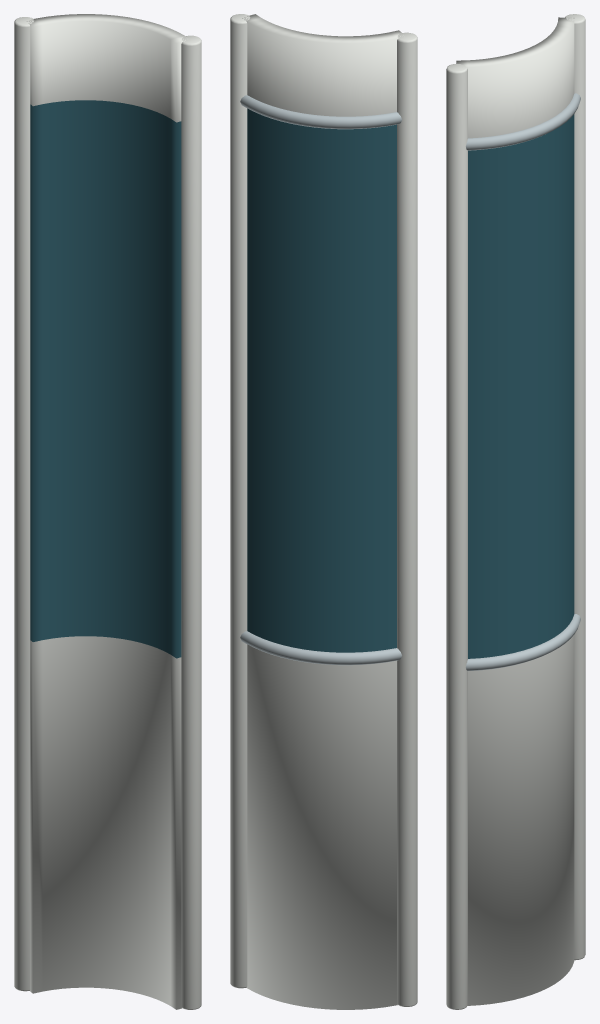
Rendered from curved_corner_wall.glb.
3 views of the same model, side by side, from view 1: azimuth 30°, elevation 25°; view 2: azimuth 210°, elevation 25°; view 3: azimuth 270°, elevation 25° (orthographic). The views are drawn at different scales.
Parts seen in each view (by area): view 1: Curved corner panel, Corner edge extrusion, Corner edge extrusion.001; view 2: Curved corner panel, Corner edge extrusion.001, Corner edge extrusion, Curved glazing bead.001, Curved glazing bead; view 3: Curved corner panel, Corner edge extrusion, Corner edge extrusion.001, Curved glazing bead.001, Curved glazing bead.
Part boxes in pixels (<box>): Curved corner panel: <box>27,14,188,1009</box>; Corner edge extrusion: <box>181,35,201,1009</box>; Corner edge extrusion.001: <box>14,17,33,991</box>; Curved corner panel: <box>242,14,404,1009</box>; Corner edge extrusion.001: <box>397,32,417,1006</box>; Corner edge extrusion: <box>230,14,250,988</box>; Curved glazing bead.001: <box>240,95,401,129</box>; Curved glazing bead: <box>240,631,401,665</box>; Curved corner panel: <box>456,17,574,1005</box>; Corner edge extrusion: <box>446,63,467,1009</box>; Corner edge extrusion.001: <box>565,14,585,960</box>; Curved glazing bead.001: <box>466,93,580,150</box>; Curved glazing bead: <box>466,614,580,671</box>.
Bounding box in the file's own units: 0.296 × 2.2 × 0.296.
